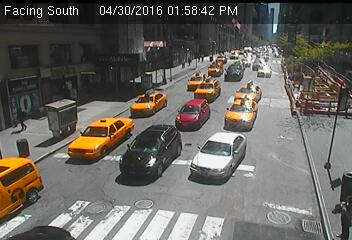neg: (118, 129, 165, 192), (62, 142, 100, 191), (237, 79, 273, 126), (216, 166, 250, 211), (284, 190, 312, 227), (173, 99, 198, 133), (195, 68, 220, 101), (316, 85, 340, 116), (250, 40, 266, 61), (171, 38, 185, 56)
pos: (9, 104, 29, 131)
